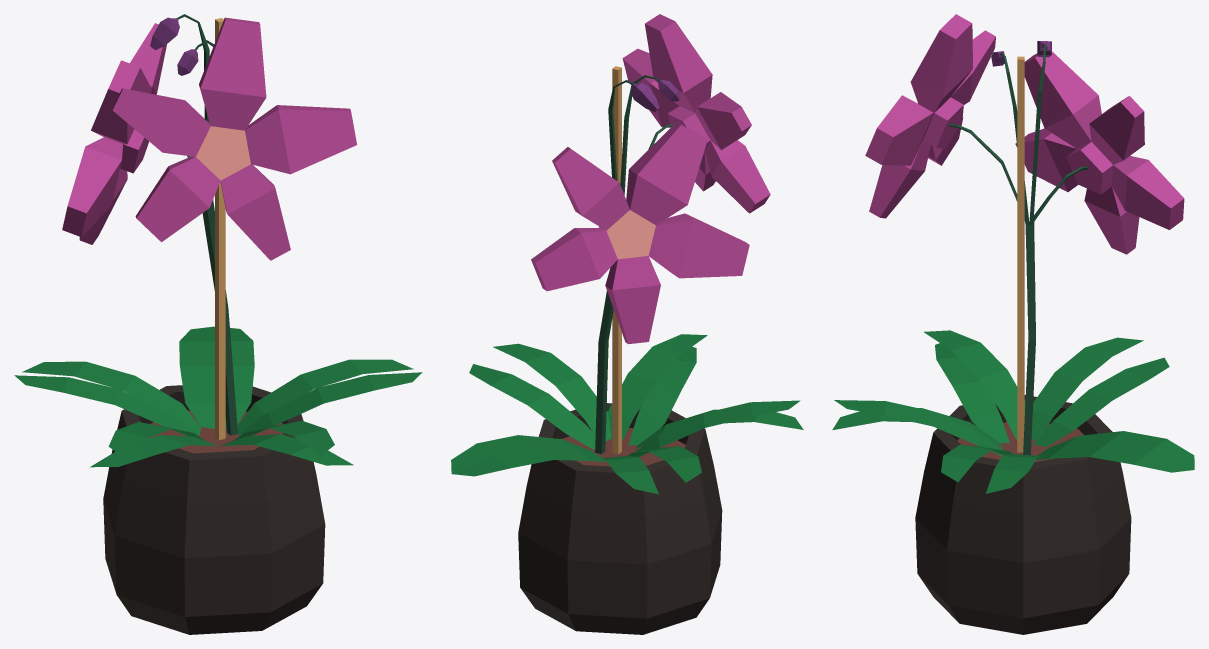
The model's file is Plant03.fbx.
The picture shows the model from 3 angles, left to right: view 1: azimuth 30°, elevation 25°; view 2: azimuth 150°, elevation 25°; view 3: azimuth 270°, elevation 25°; orthographic projection. The views are drawn at different scales.
Parts seen in each view (by area): view 1: Pot, Flower, Plane, Flower.001, Stalk, Stick; view 2: Pot, Flower.001, Plane, Flower, Stalk, Stick; view 3: Pot, Plane, Flower.001, Flower, Stalk, Stick.
Boxes of the visible parts, x1,y1,x2,y2 form: Pot: (103, 385, 325, 634); Flower: (112, 17, 356, 260); Plane: (14, 326, 422, 467); Flower.001: (62, 23, 166, 244); Stalk: (146, 14, 237, 435); Stick: (215, 18, 225, 440); Pot: (518, 403, 722, 634); Flower.001: (531, 122, 749, 344); Plane: (451, 334, 803, 494); Flower: (622, 14, 770, 213); Stalk: (595, 75, 679, 454); Stick: (612, 66, 621, 454); Pot: (915, 395, 1131, 634); Plane: (832, 330, 1194, 493); Flower.001: (1015, 51, 1184, 254); Flower: (865, 14, 995, 218); Stalk: (948, 41, 1088, 455); Stick: (1017, 56, 1024, 452).
Size of the model in its own units: 30.9 by 52.49 by 30.18.
